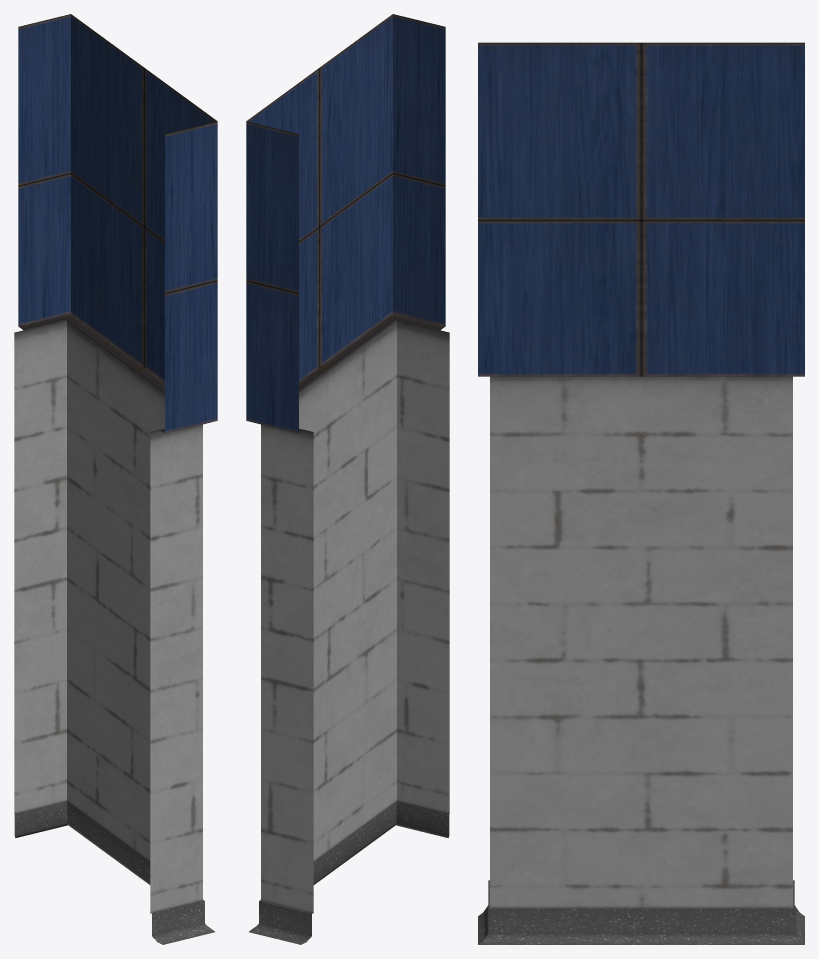
File: Cafateria Pillar 1.fbx
3 renders of one model, left to right at view 1: azimuth 30°, elevation 25°; view 2: azimuth 150°, elevation 25°; view 3: azimuth 270°, elevation 25°, orthographic. The views are drawn at different scales.
Visible parts, largest first — view 1: Cafateria_Pillar_1; view 2: Cafateria_Pillar_1; view 3: Cafateria_Pillar_1.
Part boxes in pixels (box(x1,y1,x2,y2)): Cafateria_Pillar_1: box(14, 14, 217, 944); Cafateria_Pillar_1: box(246, 14, 449, 944); Cafateria_Pillar_1: box(478, 42, 804, 944).
Bounding box in the file's own units: 33.4 × 416 × 137.
